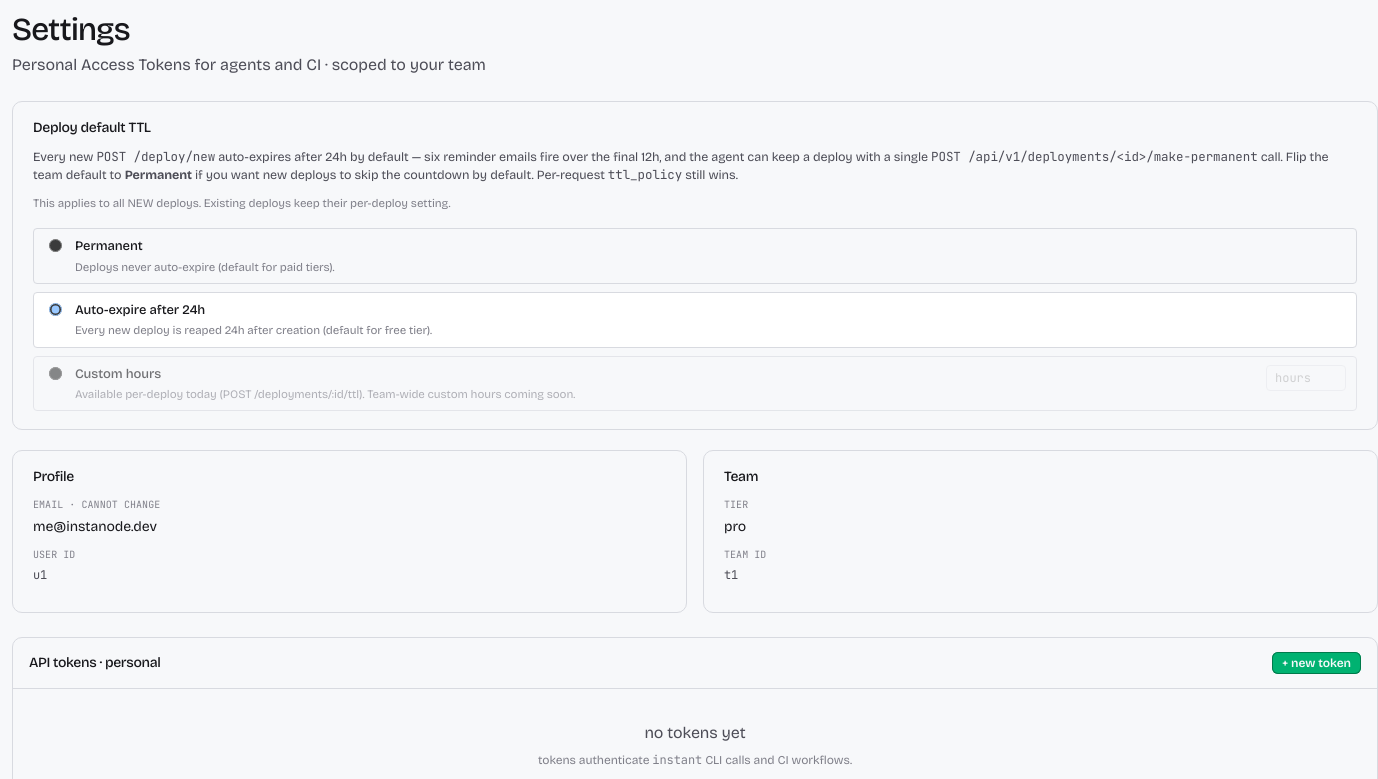
SettingsPage — DeployTtlPolicyCard › surfaces a settings save error
The image size is (1378, 779).
Click the radio button with test id "ttl-policy-permanent" at (56, 246), box x1=49 y1=239 x2=62 y2=252
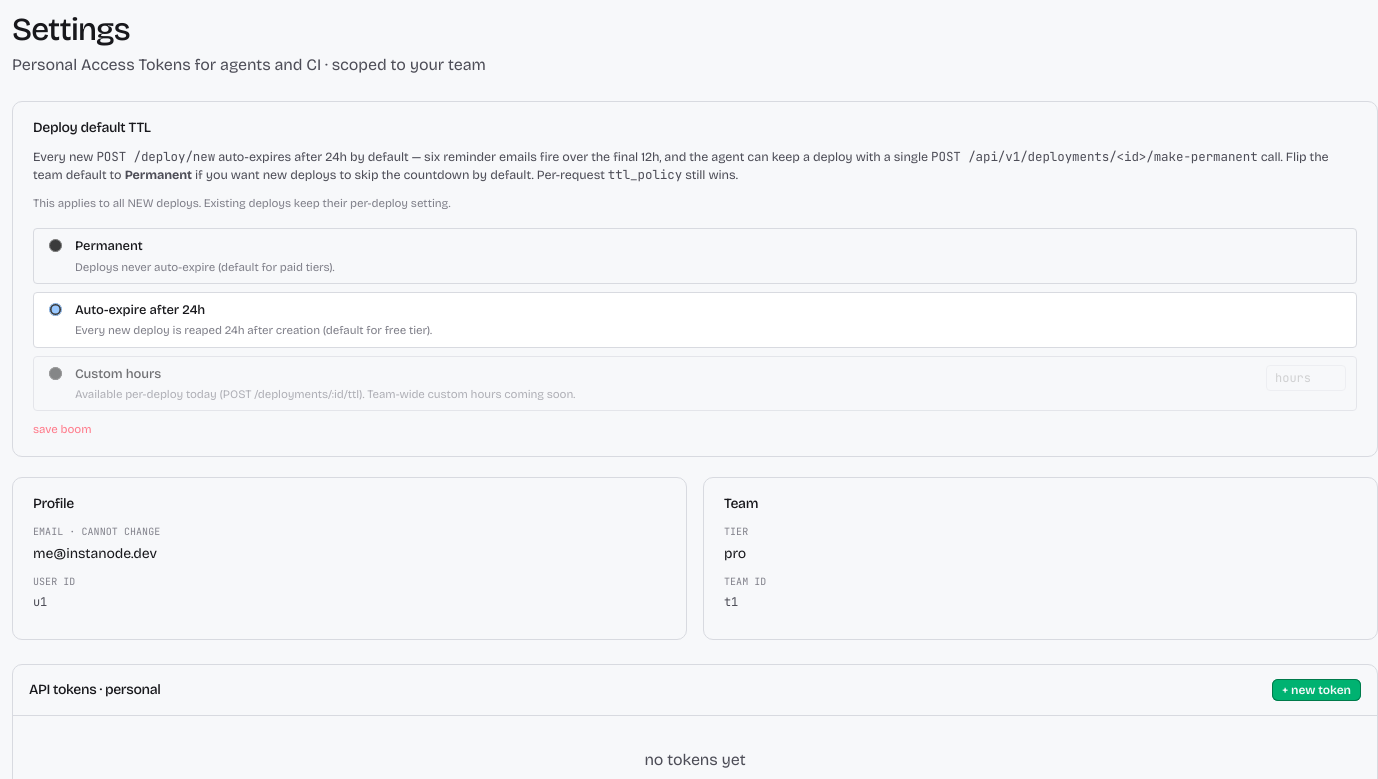
Now the text "save boom" is shown, box x1=33 y1=422 x2=91 y2=436
